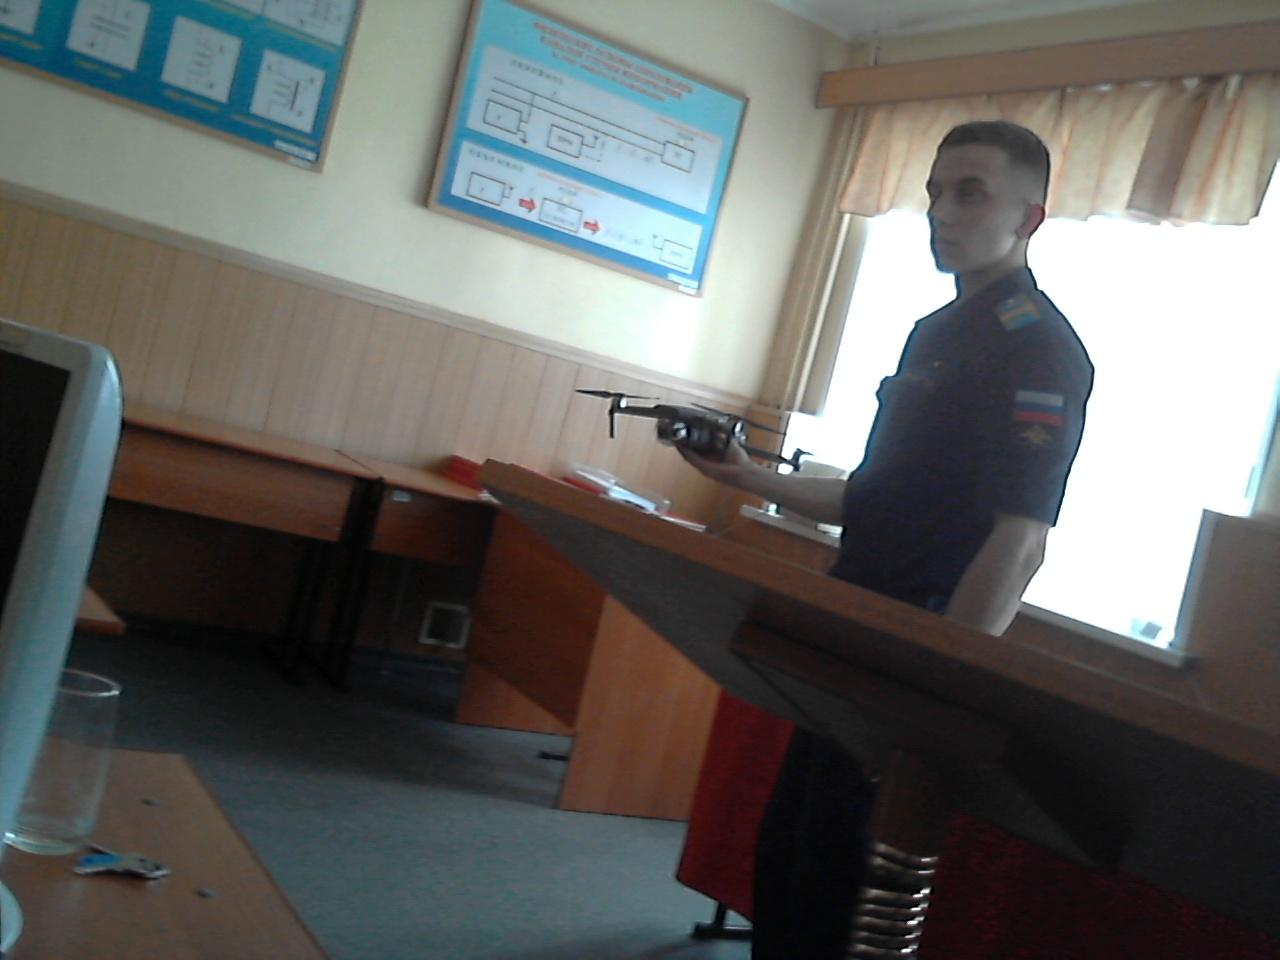drone: (574, 358, 830, 499)
